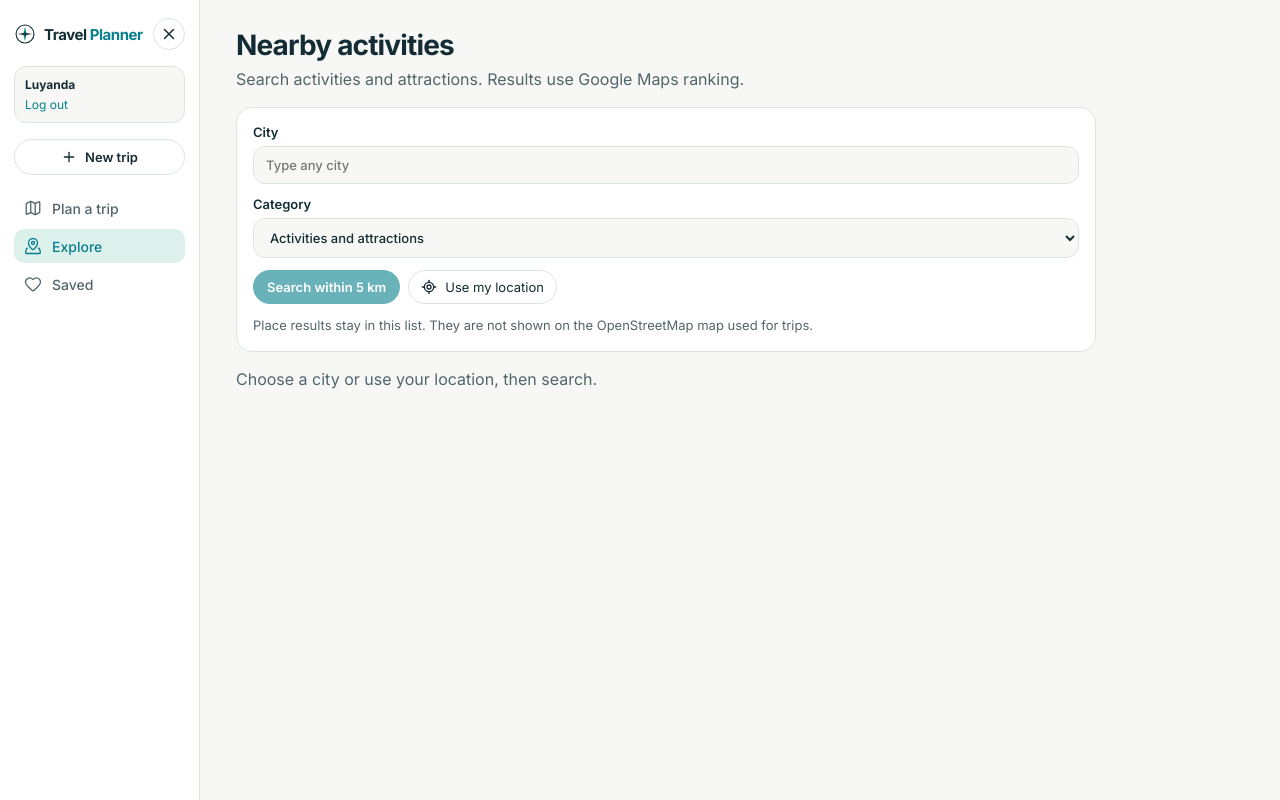
planner state across Explore › still clears the planner on New trip
Click the button "New trip".
click(100, 157)  # box [14,139,185,175]
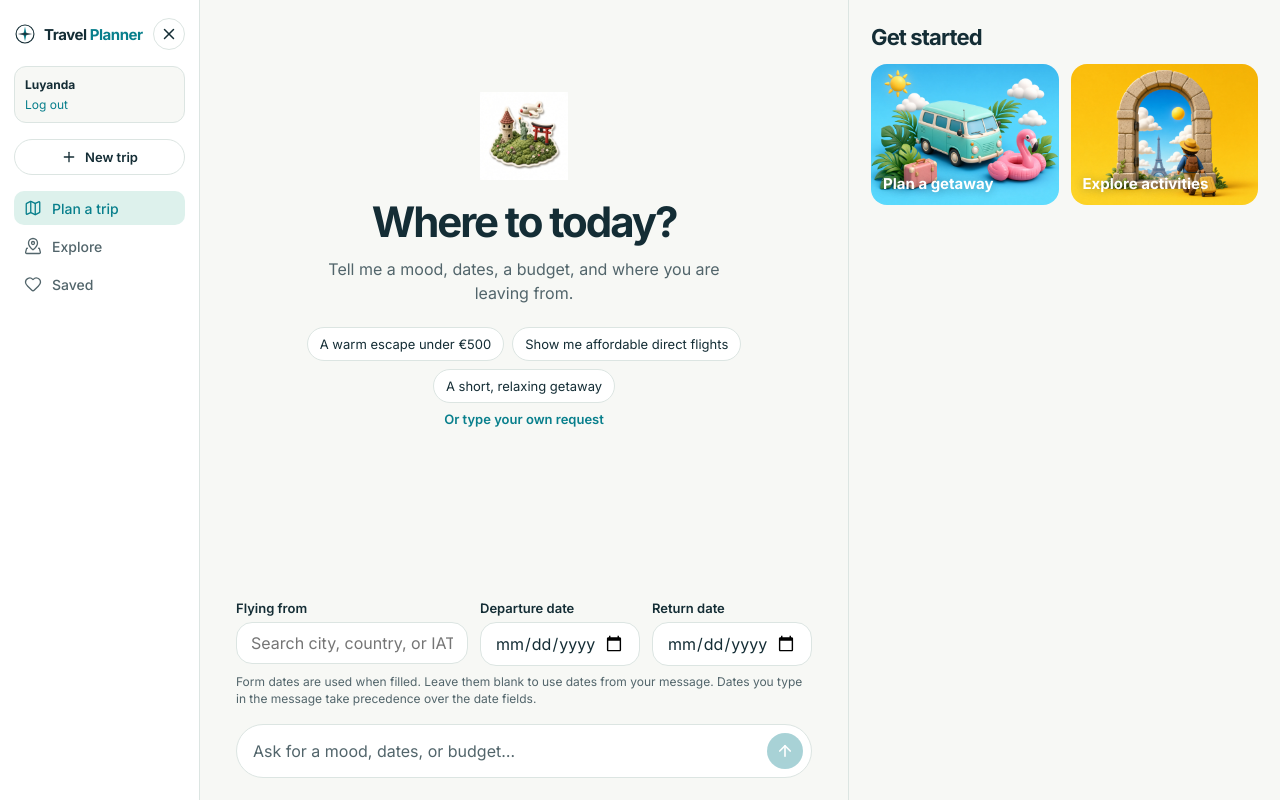
Result: the text "Where to today?" is shown at [372,196,676,247]
Result: the text box with id "trip-composer" is empty at [253,733,759,769]
